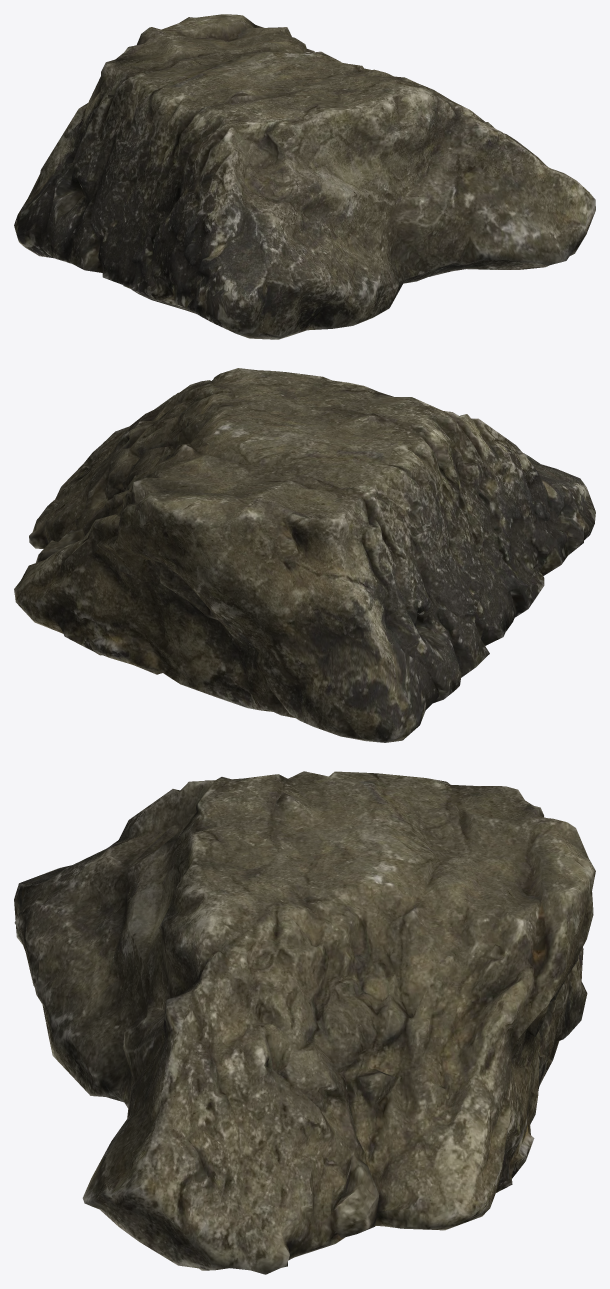
The model's file is rock_moss_02_r08.glb.
The picture shows the model from 3 angles, top to bottom: view 1: azimuth 30°, elevation 25°; view 2: azimuth 150°, elevation 25°; view 3: azimuth 270°, elevation 25°; orthographic projection. The views are drawn at different scales.
Parts seen in each view (by area): view 1: rock_moss_02_r08_LOD0; view 2: rock_moss_02_r08_LOD0; view 3: rock_moss_02_r08_LOD0.
Part boxes in pixels (x1,y1,x2,y2): rock_moss_02_r08_LOD0: (14,14,595,339); rock_moss_02_r08_LOD0: (14,368,595,742); rock_moss_02_r08_LOD0: (14,771,595,1274).
Size of what is drawn, in the model's own units: 1.21 by 0.5287 by 0.9837.
Materials: 1 (1 with a texture image).
